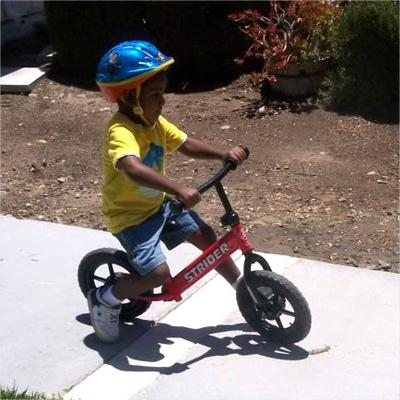person: (88, 40, 246, 345)
